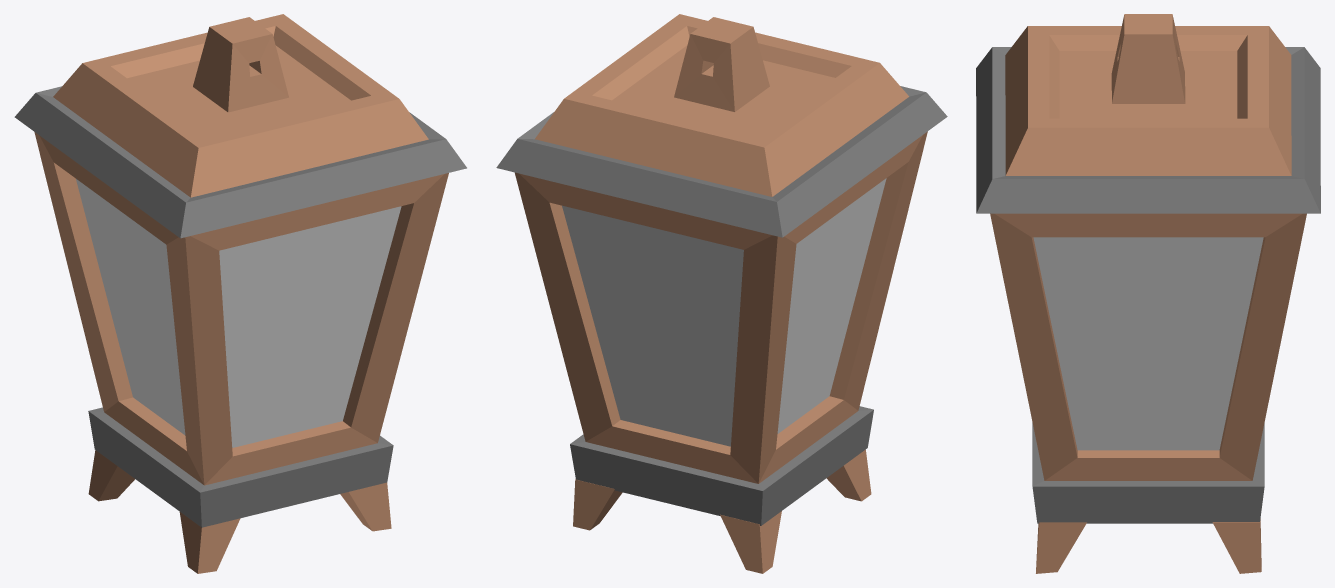
Rendered from lamp.fbx.
3 views of the same model, side by side, from view 1: azimuth 30°, elevation 25°; view 2: azimuth 150°, elevation 25°; view 3: azimuth 270°, elevation 25° (orthographic). The views are drawn at different scales.
Parts seen in each view (by area): view 1: Lantern; view 2: Lantern; view 3: Lantern.
Boxes of the visible parts, left/top/right/bottom form: Lantern: left=14, top=14, right=466, bottom=573; Lantern: left=496, top=14, right=947, bottom=573; Lantern: left=976, top=14, right=1320, bottom=573.
Bounding box in the file's own units: 61.48 × 98.57 × 61.48.
